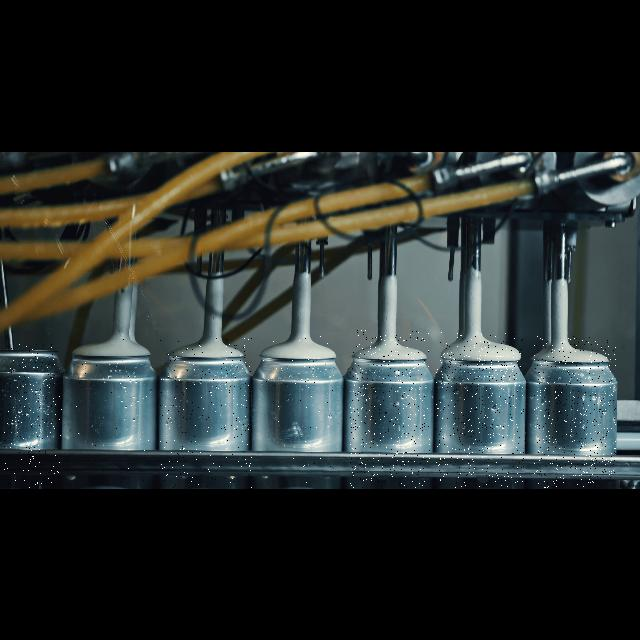empty: (4, 344, 62, 488)
full: (160, 336, 252, 488), (436, 332, 524, 488), (69, 332, 153, 488), (350, 330, 430, 488), (260, 334, 342, 488), (534, 336, 616, 488)
